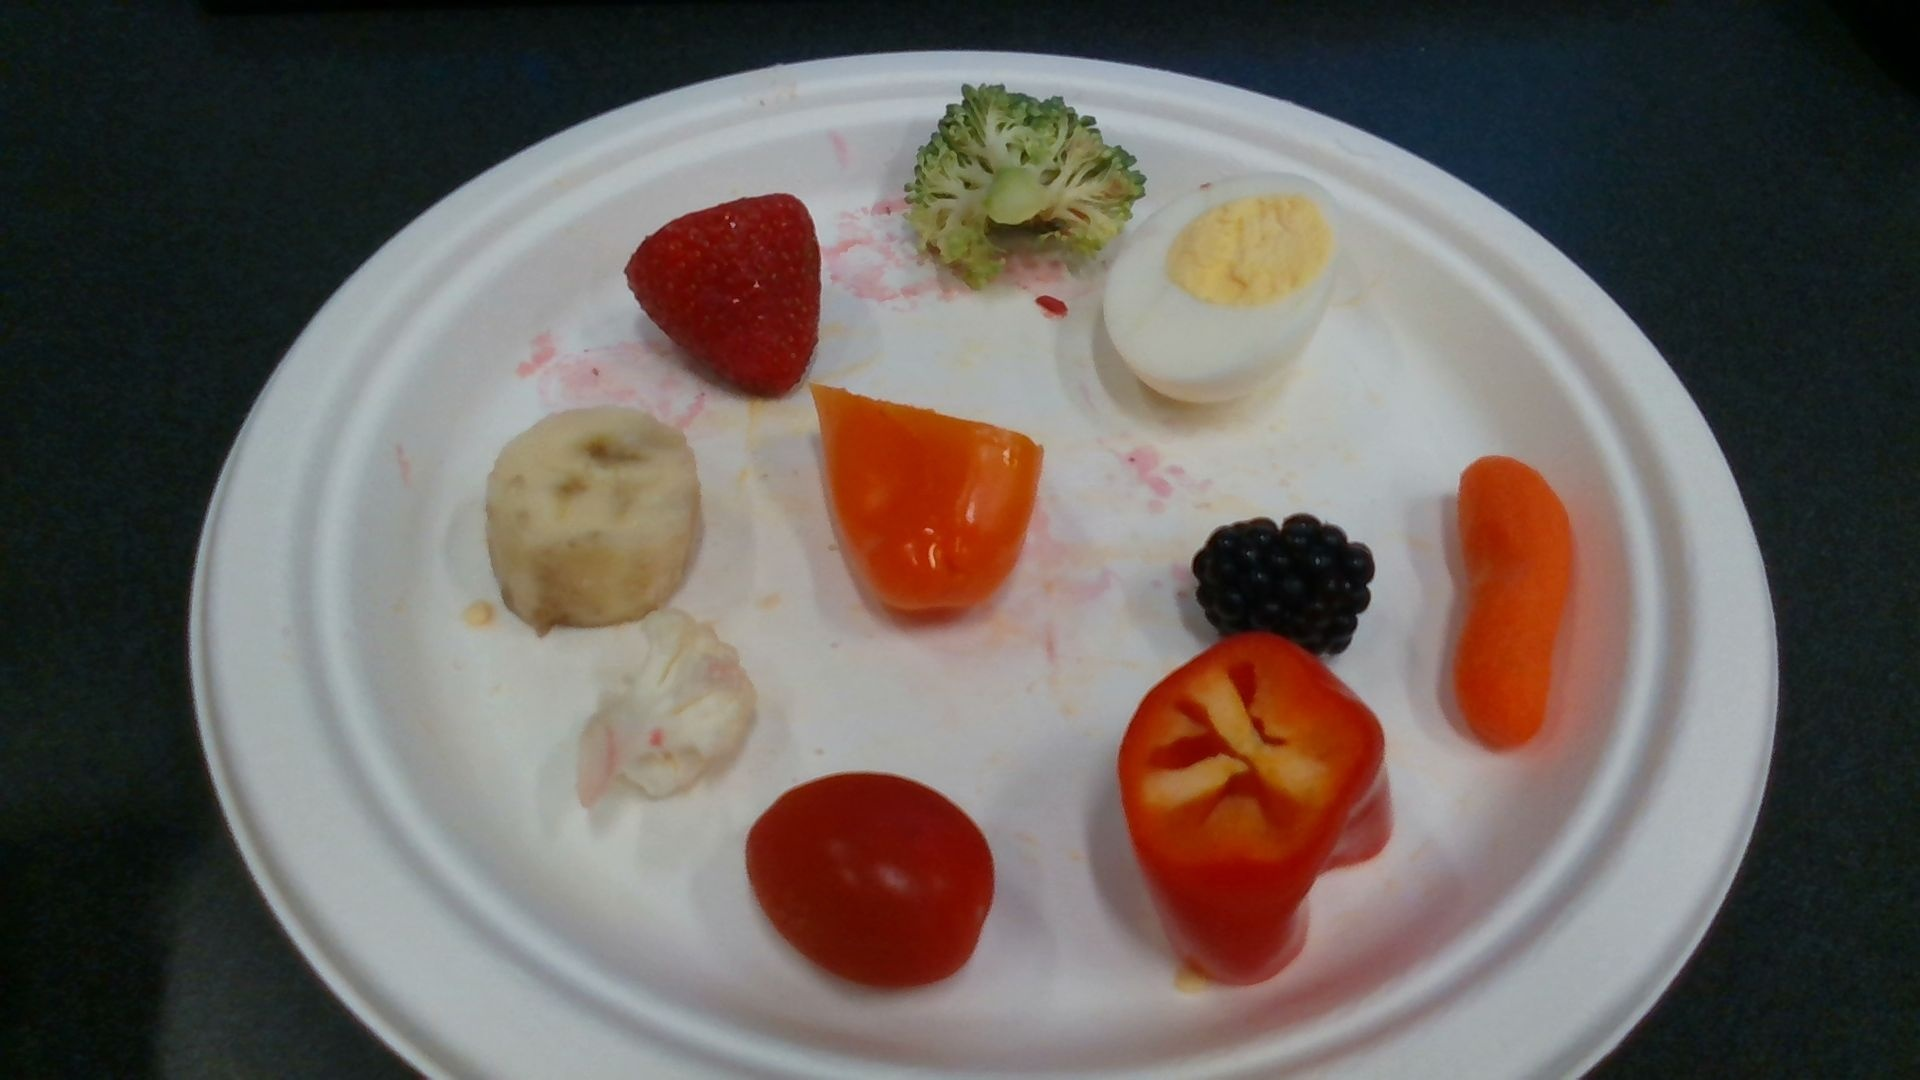banana: (487, 406, 704, 621)
bell_pepper: (1117, 633, 1390, 981), (810, 380, 1040, 613)
blackberry: (1192, 516, 1375, 651)
broccoli: (907, 84, 1137, 276)
carrot: (1455, 462, 1575, 748)
cauliflower: (578, 615, 754, 806)
cherry_tomato: (745, 775, 994, 985)
egg: (1104, 175, 1346, 400)
strawberry: (626, 196, 819, 392)
